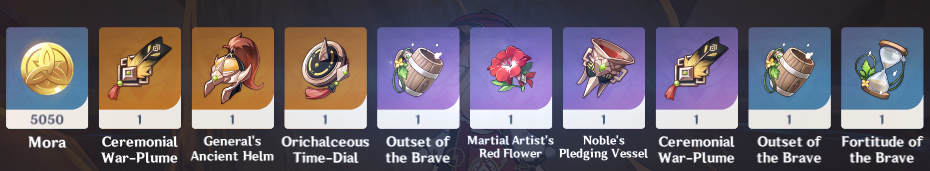3 star artifact: (744, 23, 834, 135), (839, 23, 925, 132)
4 star artifact: (368, 20, 465, 133), (466, 22, 556, 133), (652, 25, 742, 133), (560, 23, 648, 132)
5 star artifact: (91, 23, 185, 133), (279, 23, 371, 133), (189, 23, 276, 132)
